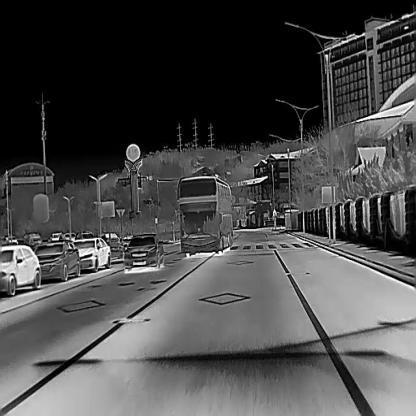car: (177, 174, 234, 257), (0, 242, 42, 295), (33, 239, 80, 281), (123, 233, 165, 272), (71, 237, 110, 273)
